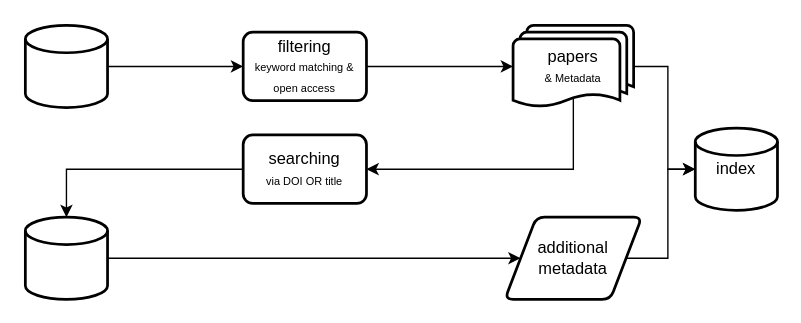
The diagram is 801 pixels wide and 323 high, and some of its shapes have lost their labels. The shapes that lost their labels are listed below. From the top down, each one's centre as x and y in pixels, then its label:
At [65,65]: "arXiv".
At [65,257]: "OpenAlex".
